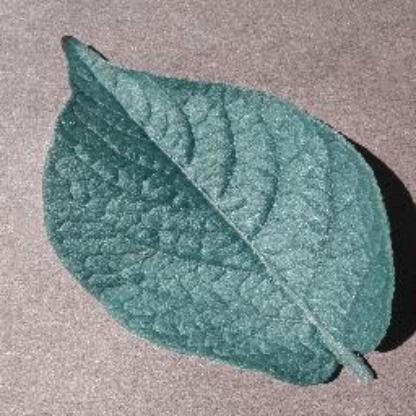Healthy-plant: (46, 28, 406, 388)
